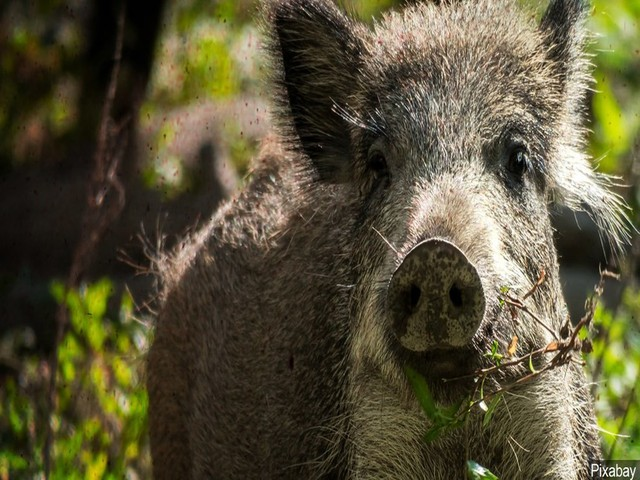Pig: (135, 5, 621, 480)
